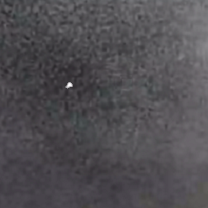Target: (64, 81, 74, 89)
